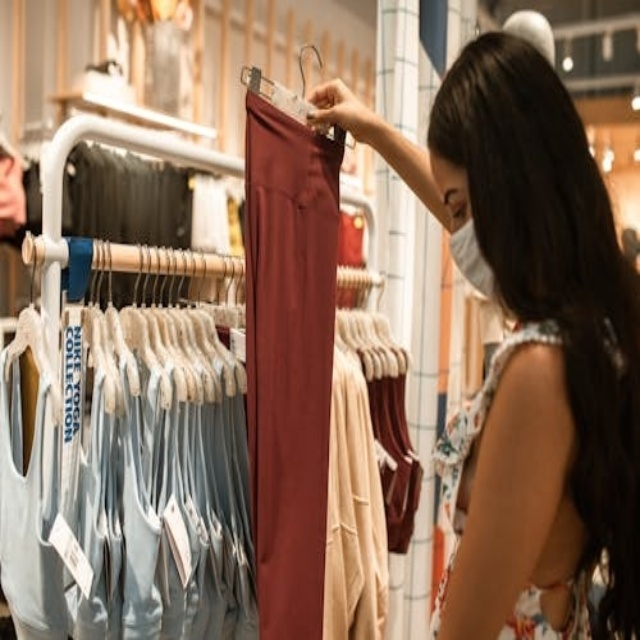Mascara: (447, 206, 502, 303)
Sin_gafas: (436, 167, 470, 234)
Sin_guantes: (296, 69, 364, 144)
